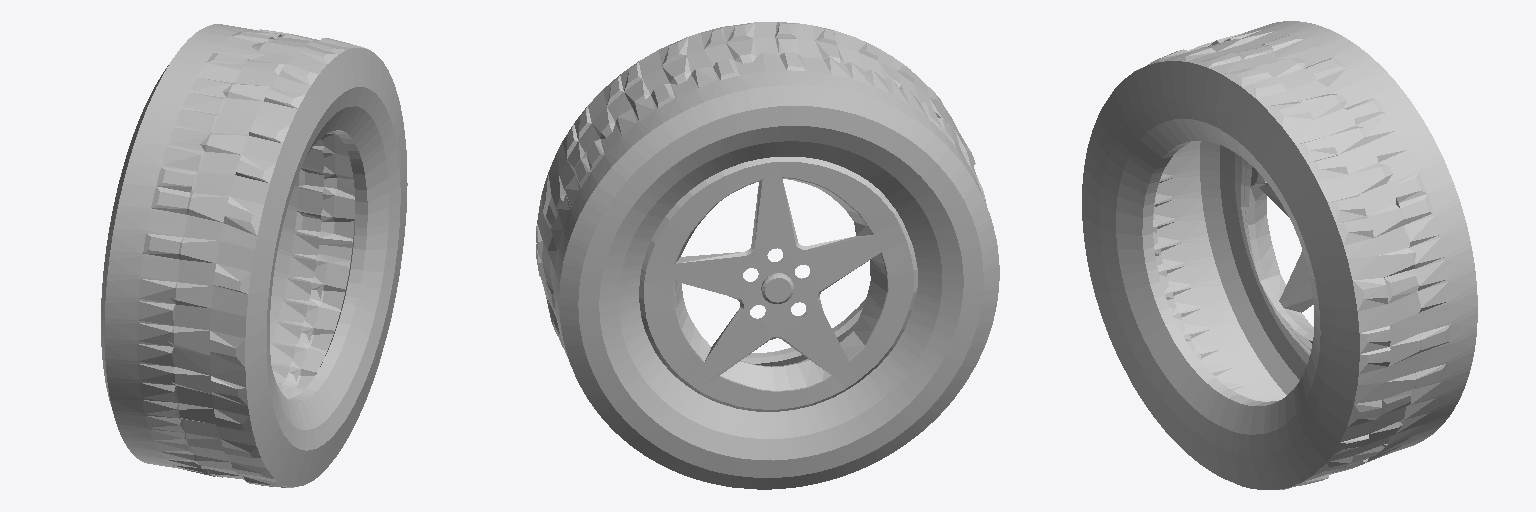
Rendered from repuesto.obj.
3 renders of one model, left to right at view 1: azimuth 30°, elevation 25°; view 2: azimuth 150°, elevation 25°; view 3: azimuth 270°, elevation 25°, orthographic.
Parts seen in each view (by area): view 1: polySurface282; view 2: polySurface282; view 3: polySurface282.
Part boxes in pixels (x1,y1,x2,y2): polySurface282: (101, 24, 407, 487); polySurface282: (536, 22, 999, 489); polySurface282: (1082, 21, 1477, 489).
Size of the model in its own units: 0.3579 by 0.3665 by 0.3203.